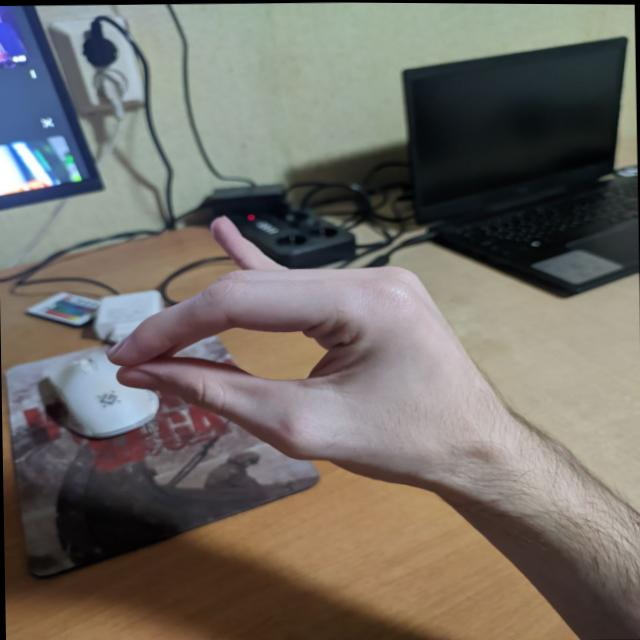iu: (101, 174, 513, 524)
